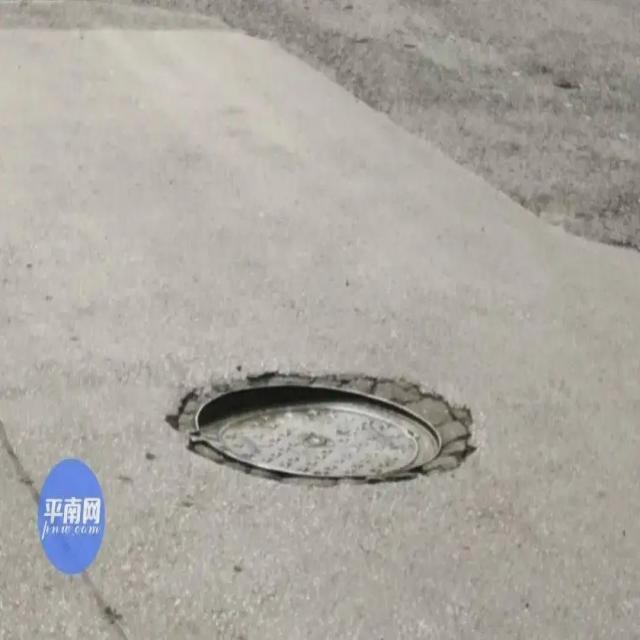Pothole: (161, 373, 478, 495)
